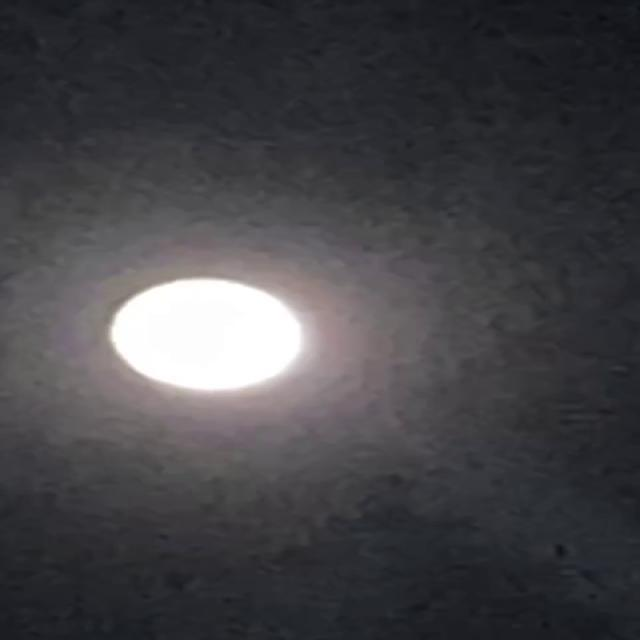moon: (118, 242, 344, 363)
